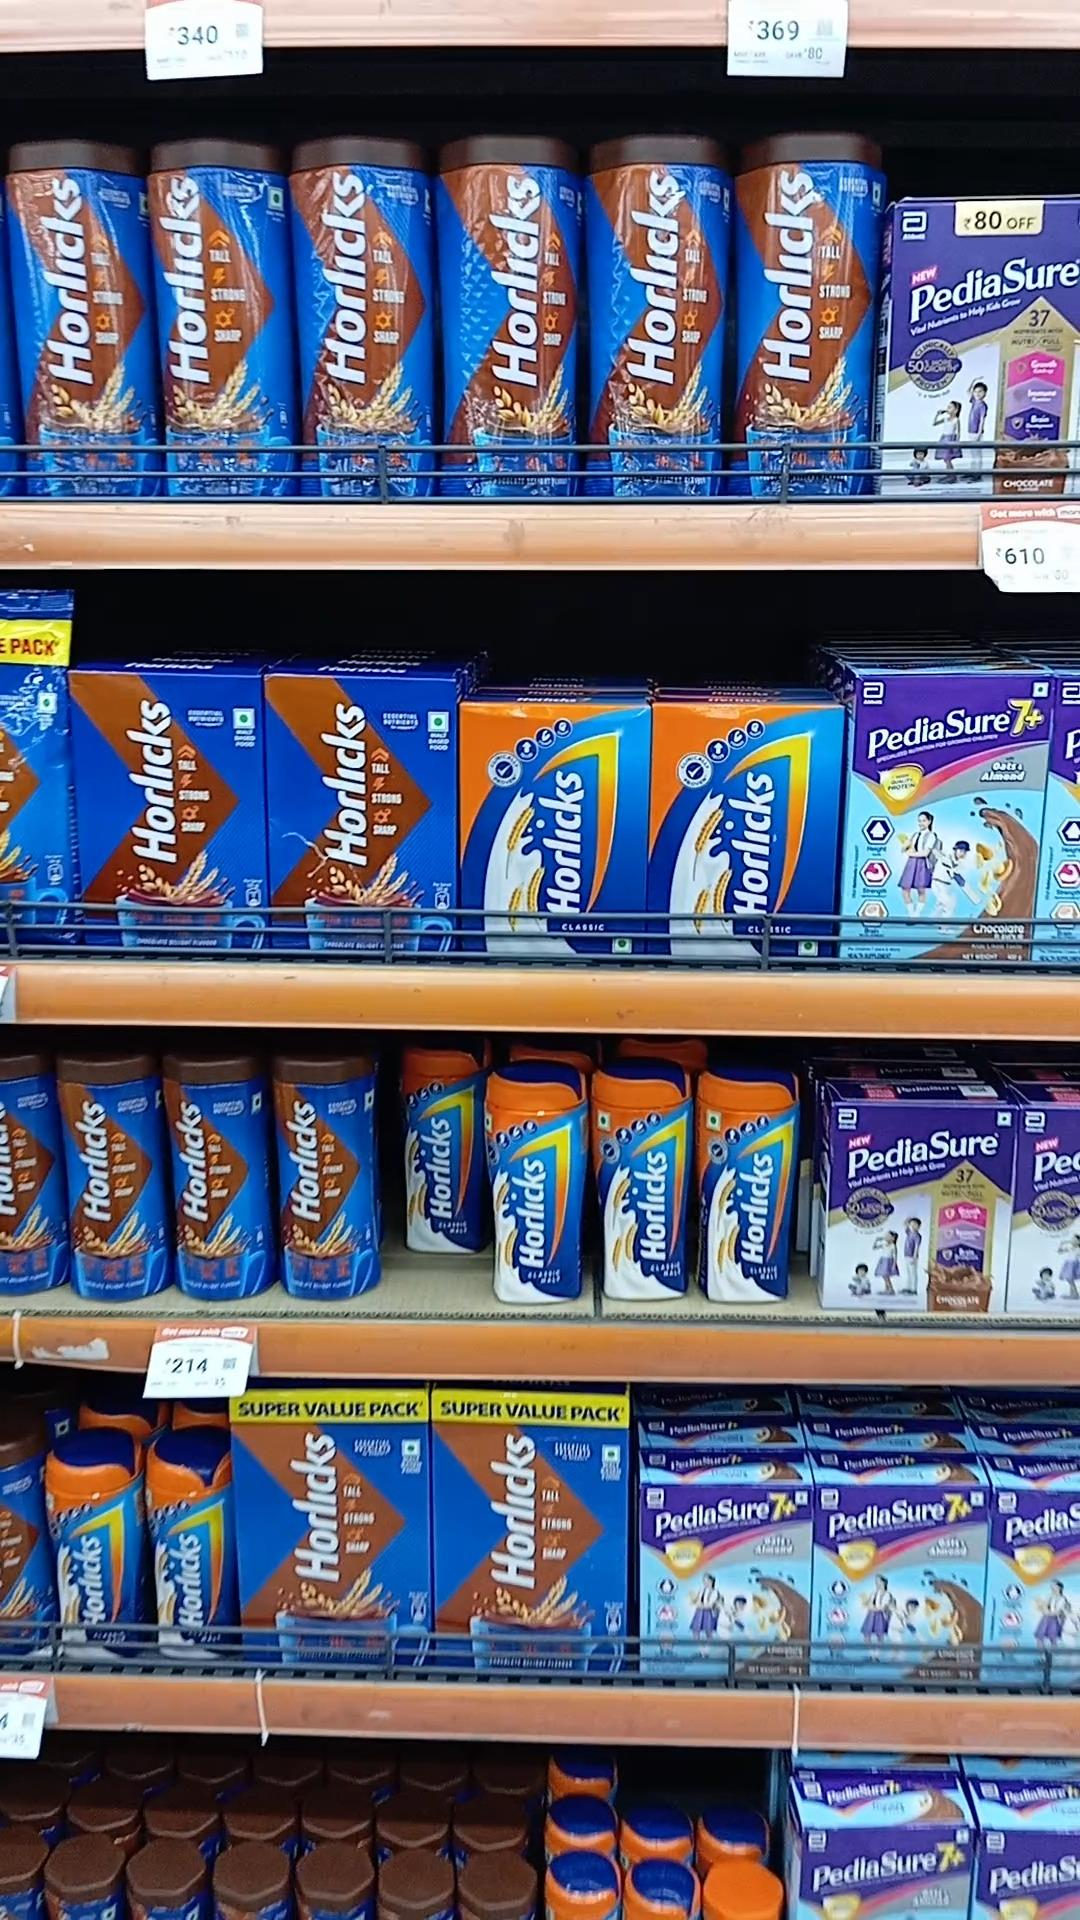HORLICK_CHOCOLATE_1_KG_PACK: (435, 1391, 628, 1672), (240, 1389, 425, 1663)
HORLICK_CHOCOLATE_500_G_JAR: (256, 1060, 372, 1319), (149, 1060, 248, 1321), (46, 1058, 140, 1320)
HORLICK_CHOCOLATE_500_G_PACK: (245, 676, 436, 963), (50, 671, 235, 963)
HORLICK_CLASSIC_MALT_500_G_JAR: (589, 1063, 691, 1327), (480, 1069, 579, 1328), (696, 1076, 798, 1324), (53, 1431, 141, 1664), (392, 1056, 472, 1278), (150, 1437, 224, 1660)
HORLICK_CLASSIC_MALT_500_G_PACK: (644, 703, 840, 973), (443, 702, 638, 968)
PEDIASURE_7_PLUS_CHOCOLATE_400_G_PACK: (853, 667, 1038, 968), (640, 1481, 811, 1679), (814, 1486, 984, 1681)
PEDIASURE_CHOCOLATE_500_G_PACK: (890, 200, 1080, 487), (829, 1097, 1013, 1308)
